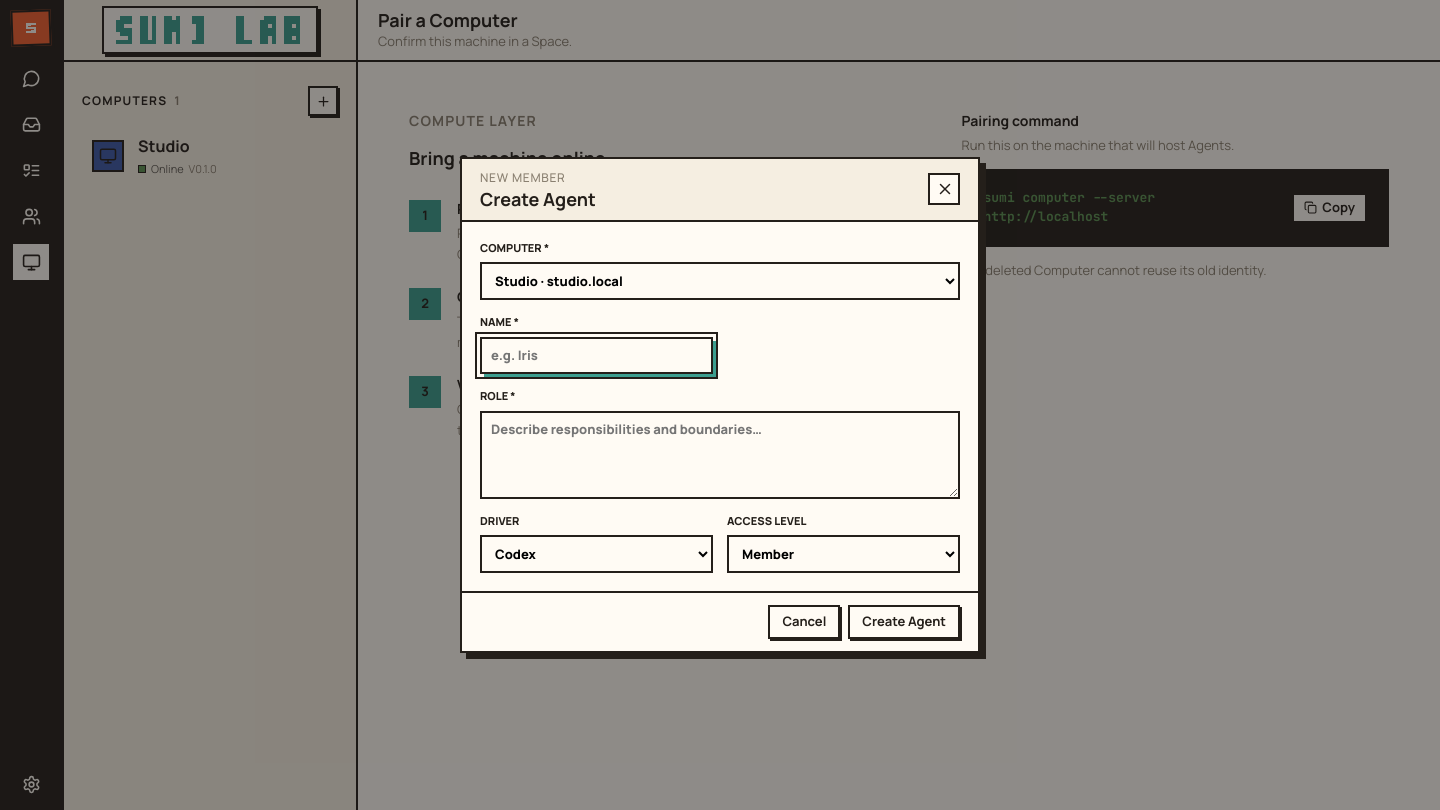
Test: Computer flows › creates an Agent in a dialog and lets a Human Owner delete a Computer
Expected: the text "Studio" is shown, 138,135 -> 190,157
Expected: the text "online" is shown, 151,161 -> 184,176
Type "Lin" into the field named "Agent name".
click(596, 355); type("Lin")  # box 480,337 -> 713,374
Select "Builtin" in the dropdown labelled "Driver" at (596, 554), box 480,535 -> 713,573
Type "Review boundaries." into the text box labelled "Role".
click(720, 455); type("Review boundaries.")  # box 480,411 -> 960,499
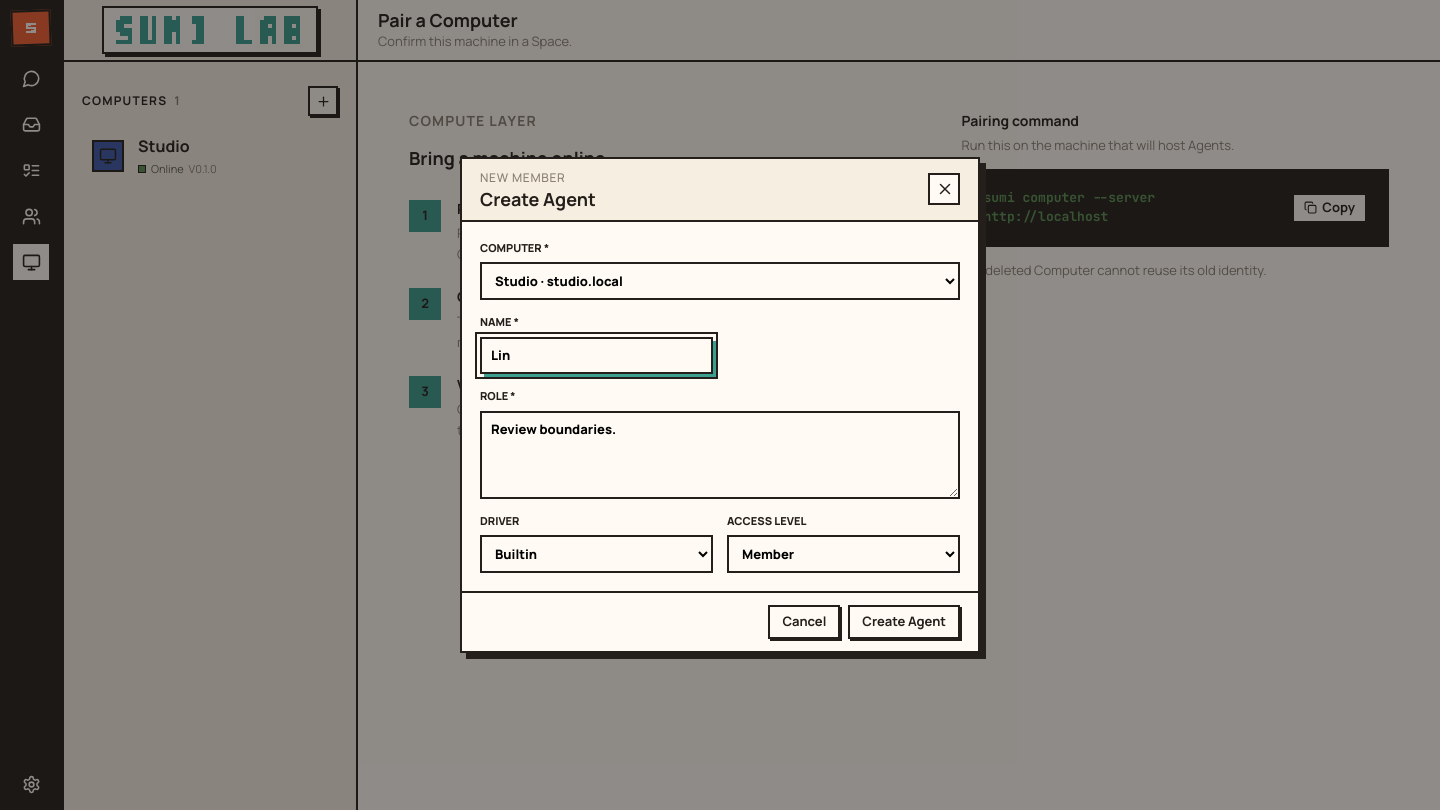
Click the button "Create Agent".
click(904, 622)  # box 848,605 -> 960,639
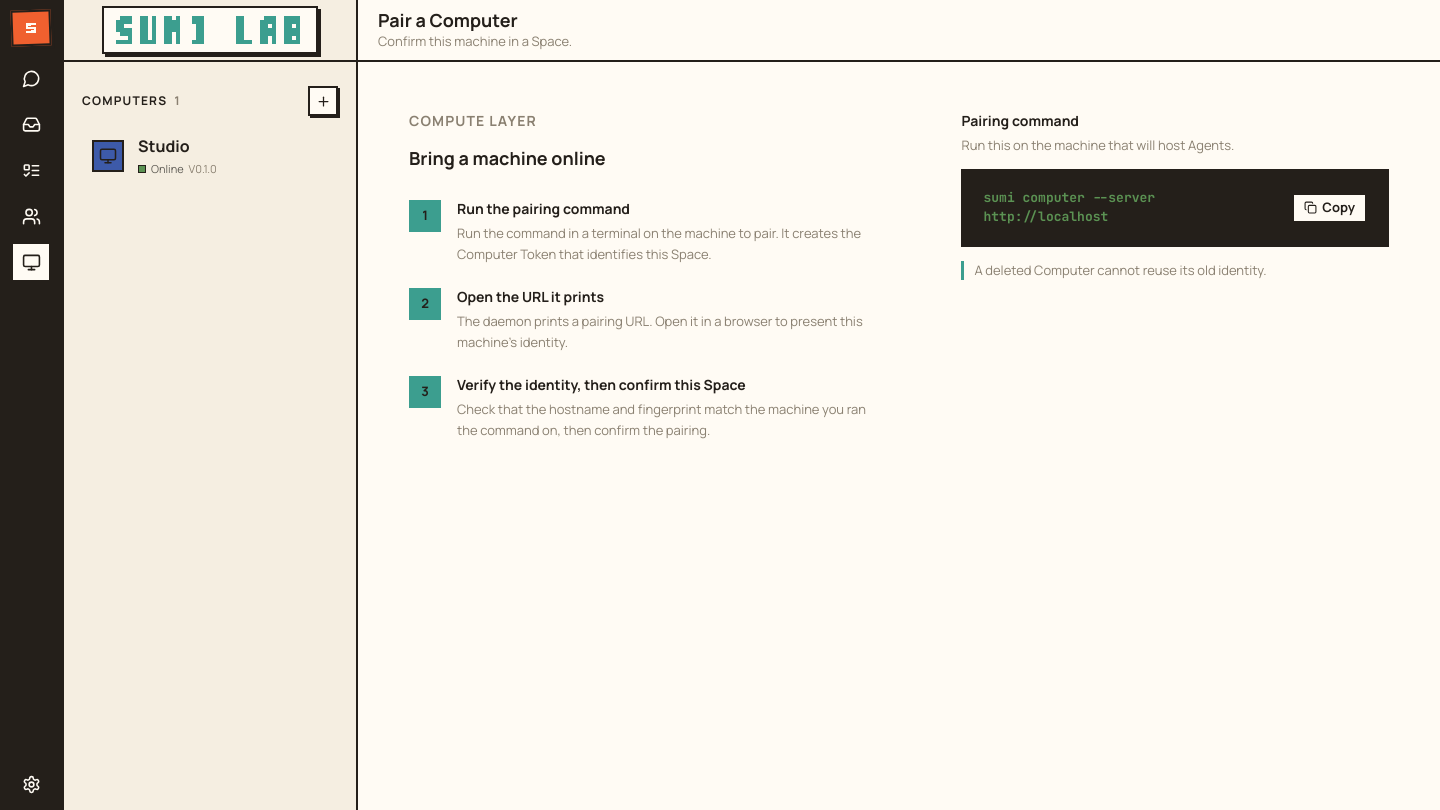
Expected: the heading "Create Agent" is gone
Click the link "Studio online v0.1.0".
click(154, 156)  # box 92,135 -> 217,176
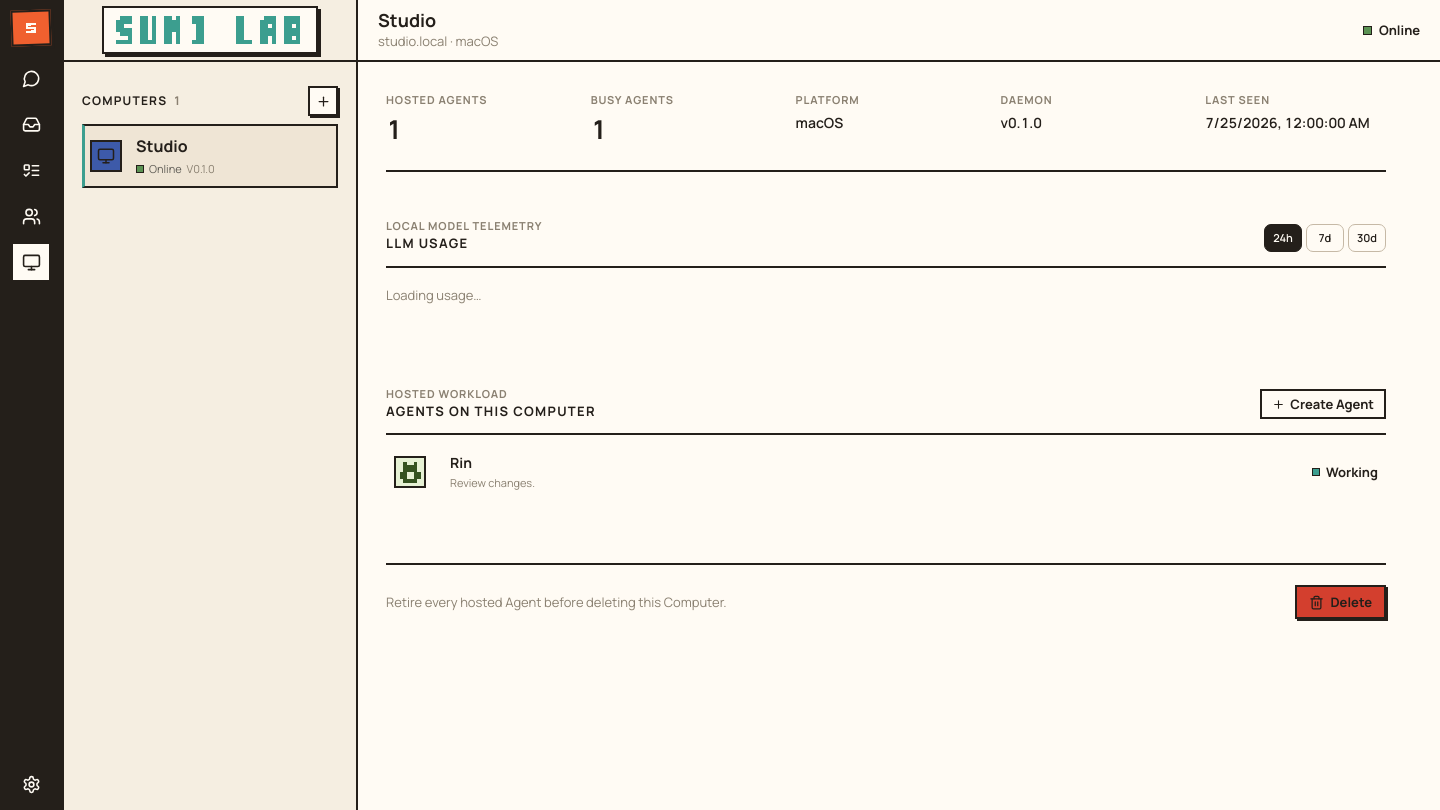
Expected: the heading "Studio" is shown, 378,8 -> 436,32
Click the button "Create Agent".
click(1323, 404)  # box 1260,389 -> 1386,419
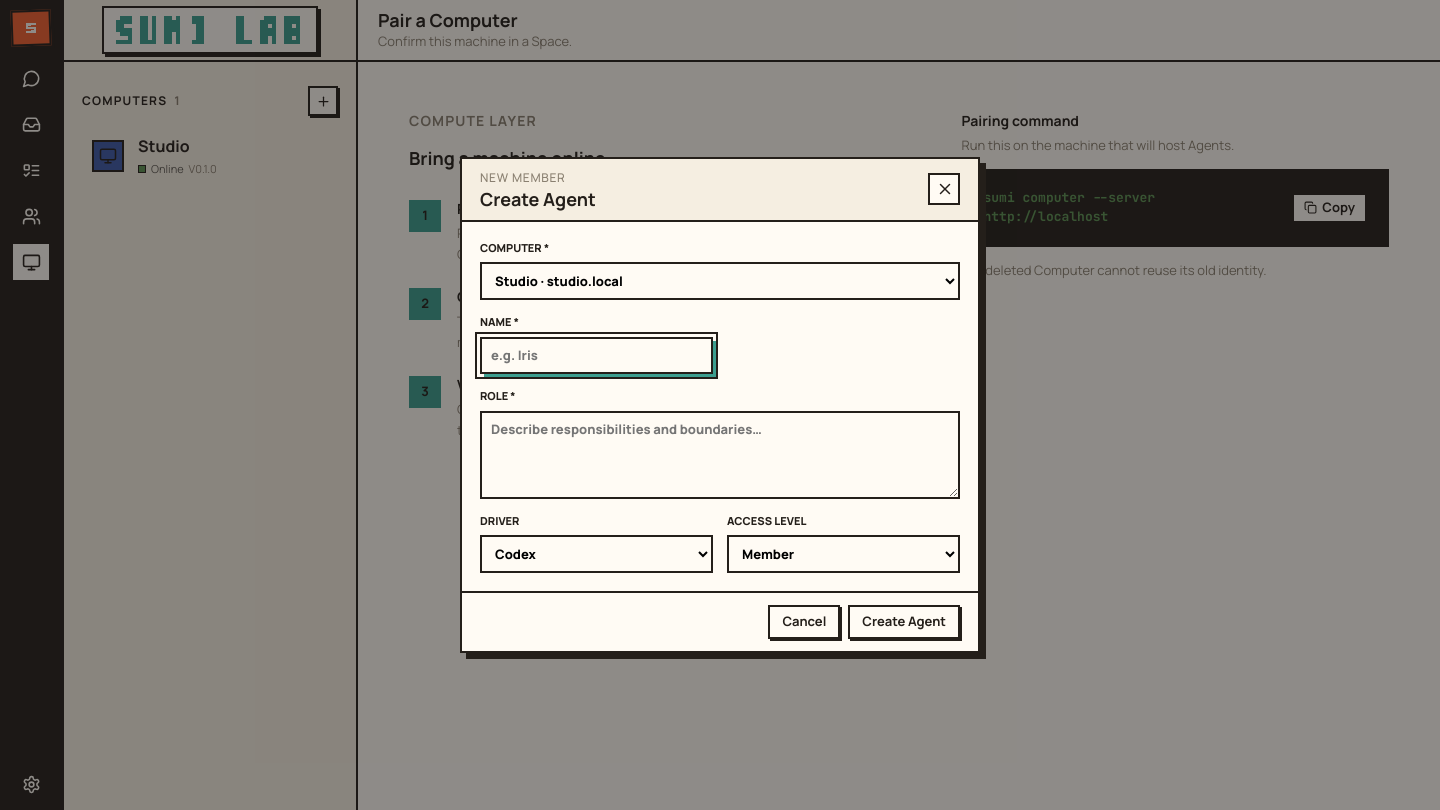
Expected: the dialog "Create Agent" is shown, 460,157 -> 980,653
Press Escape
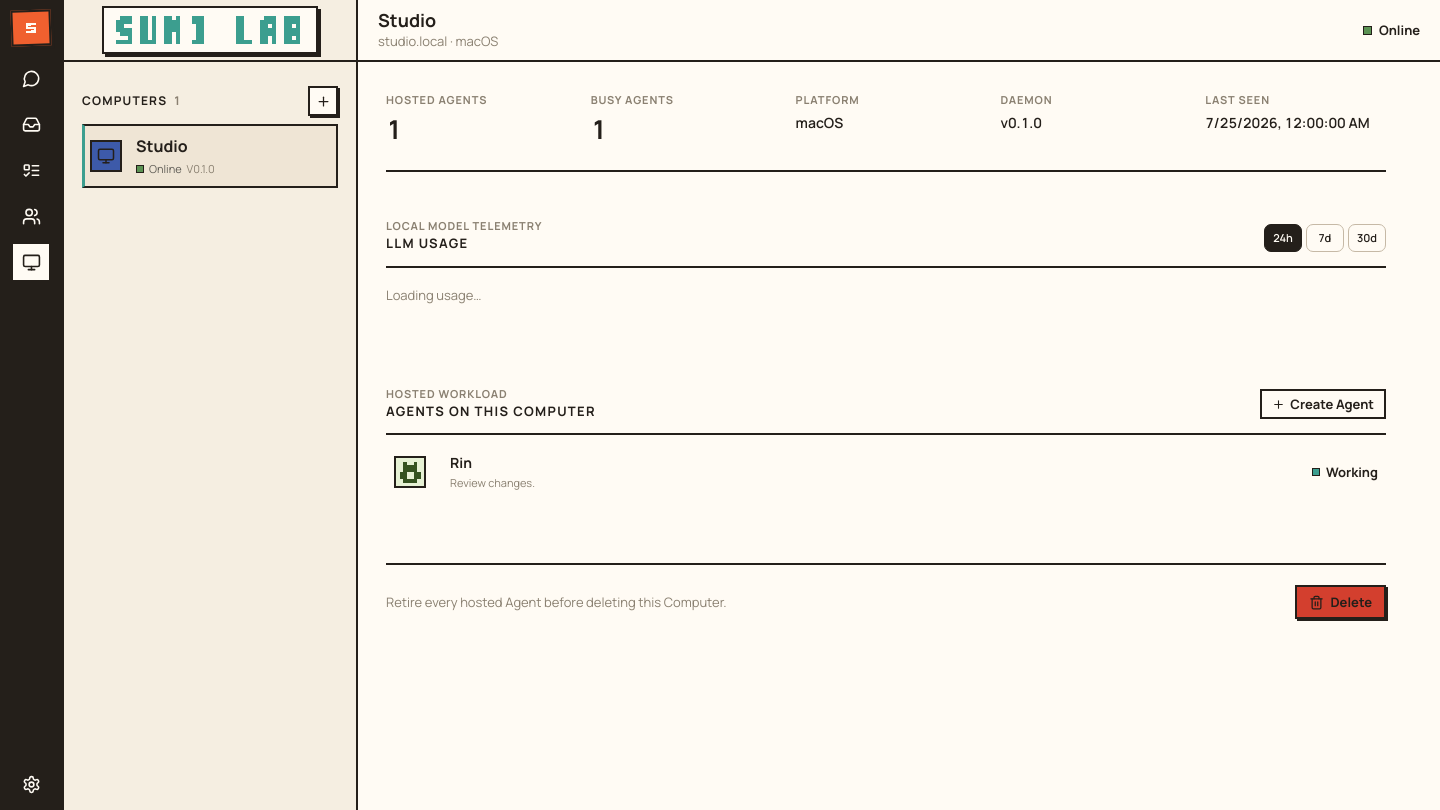
Click the button "Delete".
click(1341, 602)  # box 1296,585 -> 1386,619
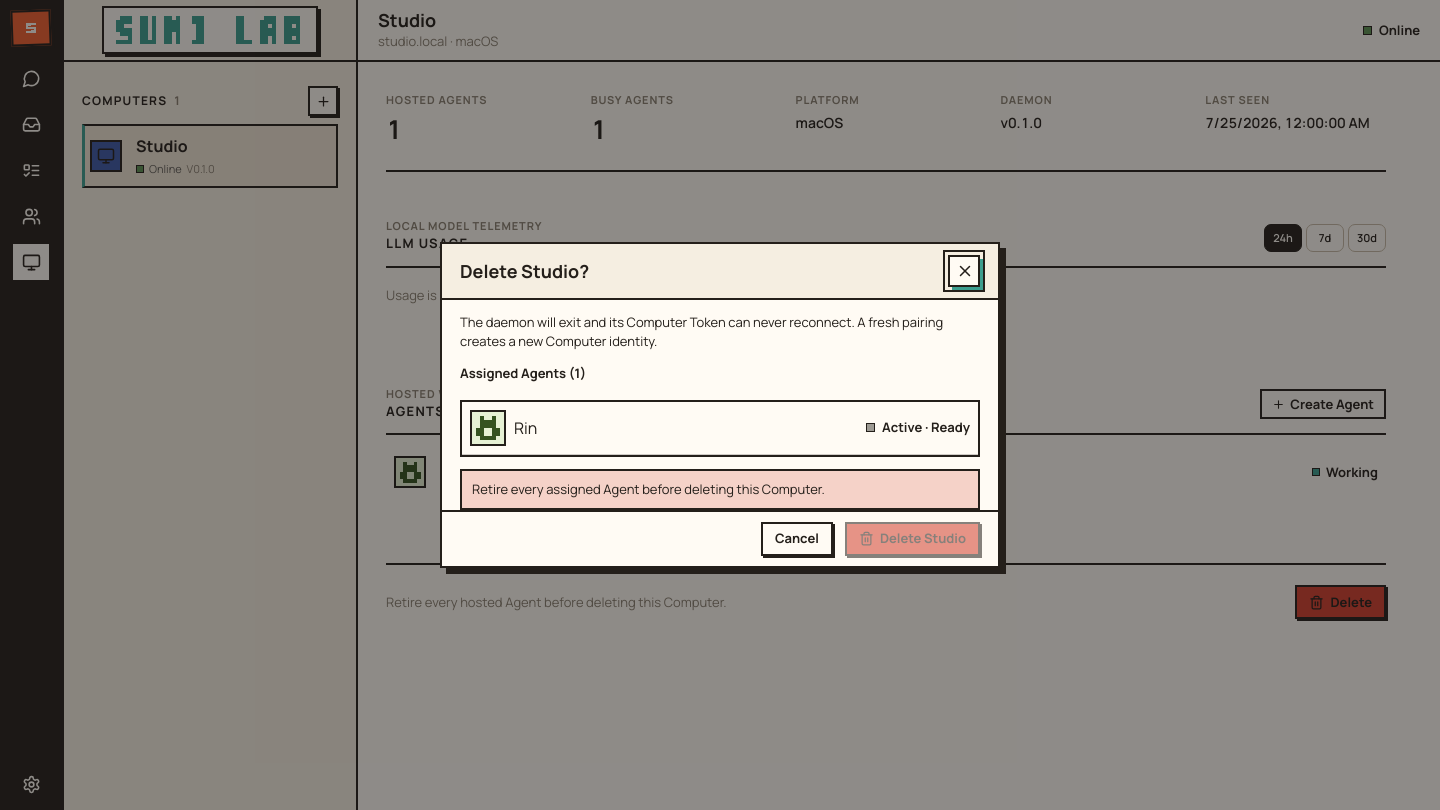
Expected: the text "Rin" is shown, 514,417 -> 537,439
Expected: the text "Retire every assigned Agent before deleting this Computer." is shown, 460,469 -> 980,510
Expected: the button "Delete Studio" is disabled, 845,522 -> 980,556
